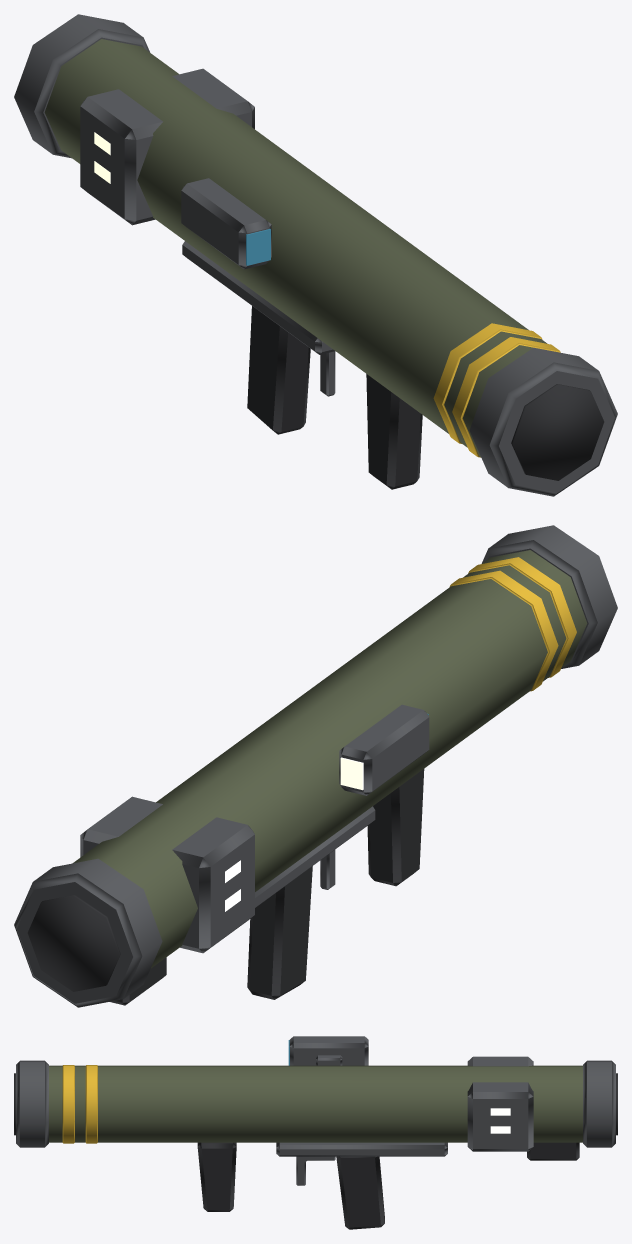
Rendered from SM_SB_RocketLauncher.fbx.
3 renders of one model, top to bottom at view 1: azimuth 30°, elevation 25°; view 2: azimuth 150°, elevation 25°; view 3: azimuth 270°, elevation 25°, orthographic. The views are drawn at different scales.
Visible parts, largest first — view 1: SM_SB_RocketLauncher; view 2: SM_SB_RocketLauncher; view 3: SM_SB_RocketLauncher.
Part boxes in pixels (<box>): SM_SB_RocketLauncher: <box>14,14,617,496</box>; SM_SB_RocketLauncher: <box>14,525,617,1007</box>; SM_SB_RocketLauncher: <box>14,1036,617,1229</box>.
Bounding box in the file's own units: 17.53 × 91.6 × 27.45.
